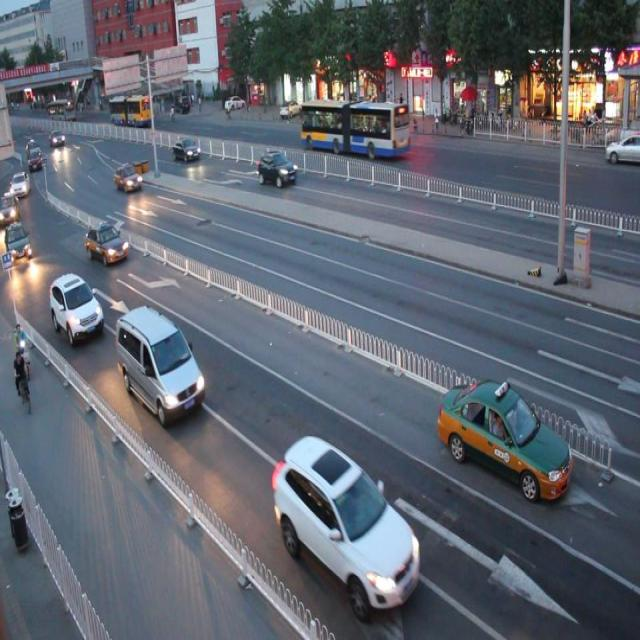car: (272, 436, 421, 610), (438, 376, 570, 498), (114, 303, 205, 424), (51, 274, 105, 344), (86, 222, 128, 263), (256, 150, 297, 188), (172, 136, 200, 162)
van: (300, 100, 409, 161)
